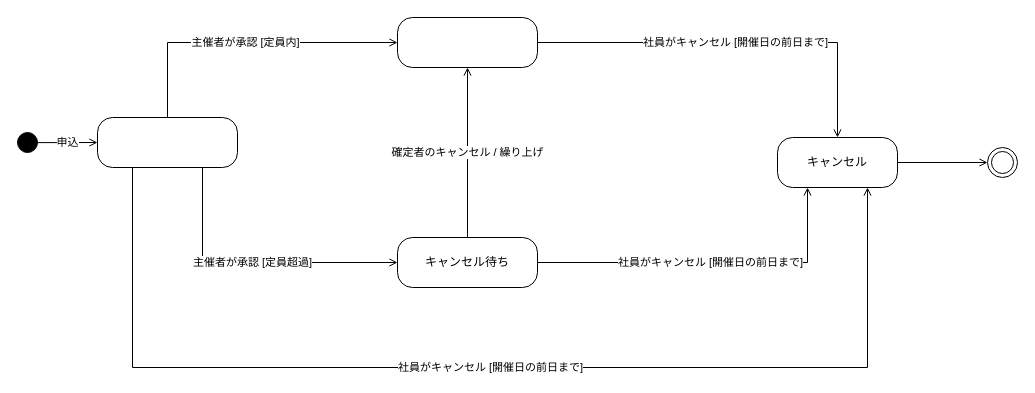
Image size: 1035x393. Some labels were removed from this diagram. The box of each missing label's shape, as (x1, y1, x2, y2) in pixels:
申込済: (96, 116, 238, 168)
確定: (396, 16, 538, 68)
